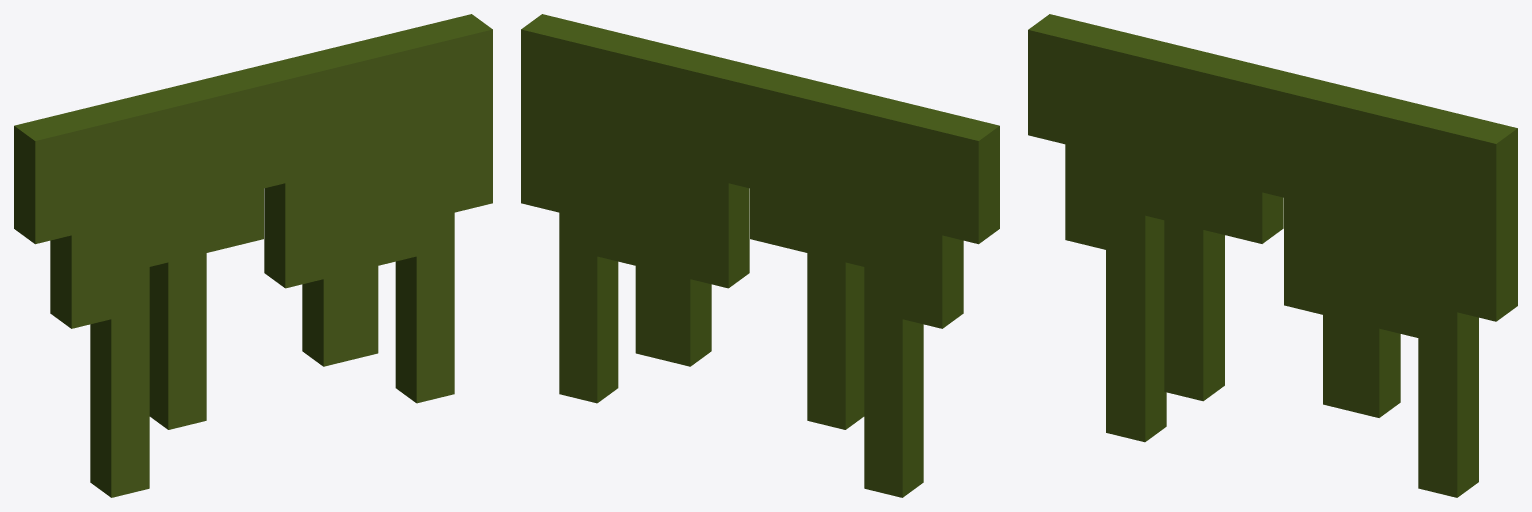
The model's file is ST_Prop_Moss_Hanging_01.fbx.
3 renders of one model, left to right at view 1: azimuth 30°, elevation 25°; view 2: azimuth 150°, elevation 25°; view 3: azimuth 330°, elevation 25°, orthographic. The views are drawn at different scales.
Parts seen in each view (by area): view 1: ST_Prop_Moss_Hanging_01; view 2: ST_Prop_Moss_Hanging_01; view 3: ST_Prop_Moss_Hanging_01.
Boxes of the visible parts, x1,y1,x2,y2 form: ST_Prop_Moss_Hanging_01: [14, 14, 492, 497]; ST_Prop_Moss_Hanging_01: [521, 14, 999, 497]; ST_Prop_Moss_Hanging_01: [1028, 14, 1517, 497].
Size of the model in its own units: 1.67 by 1.31 by 0.1332.
